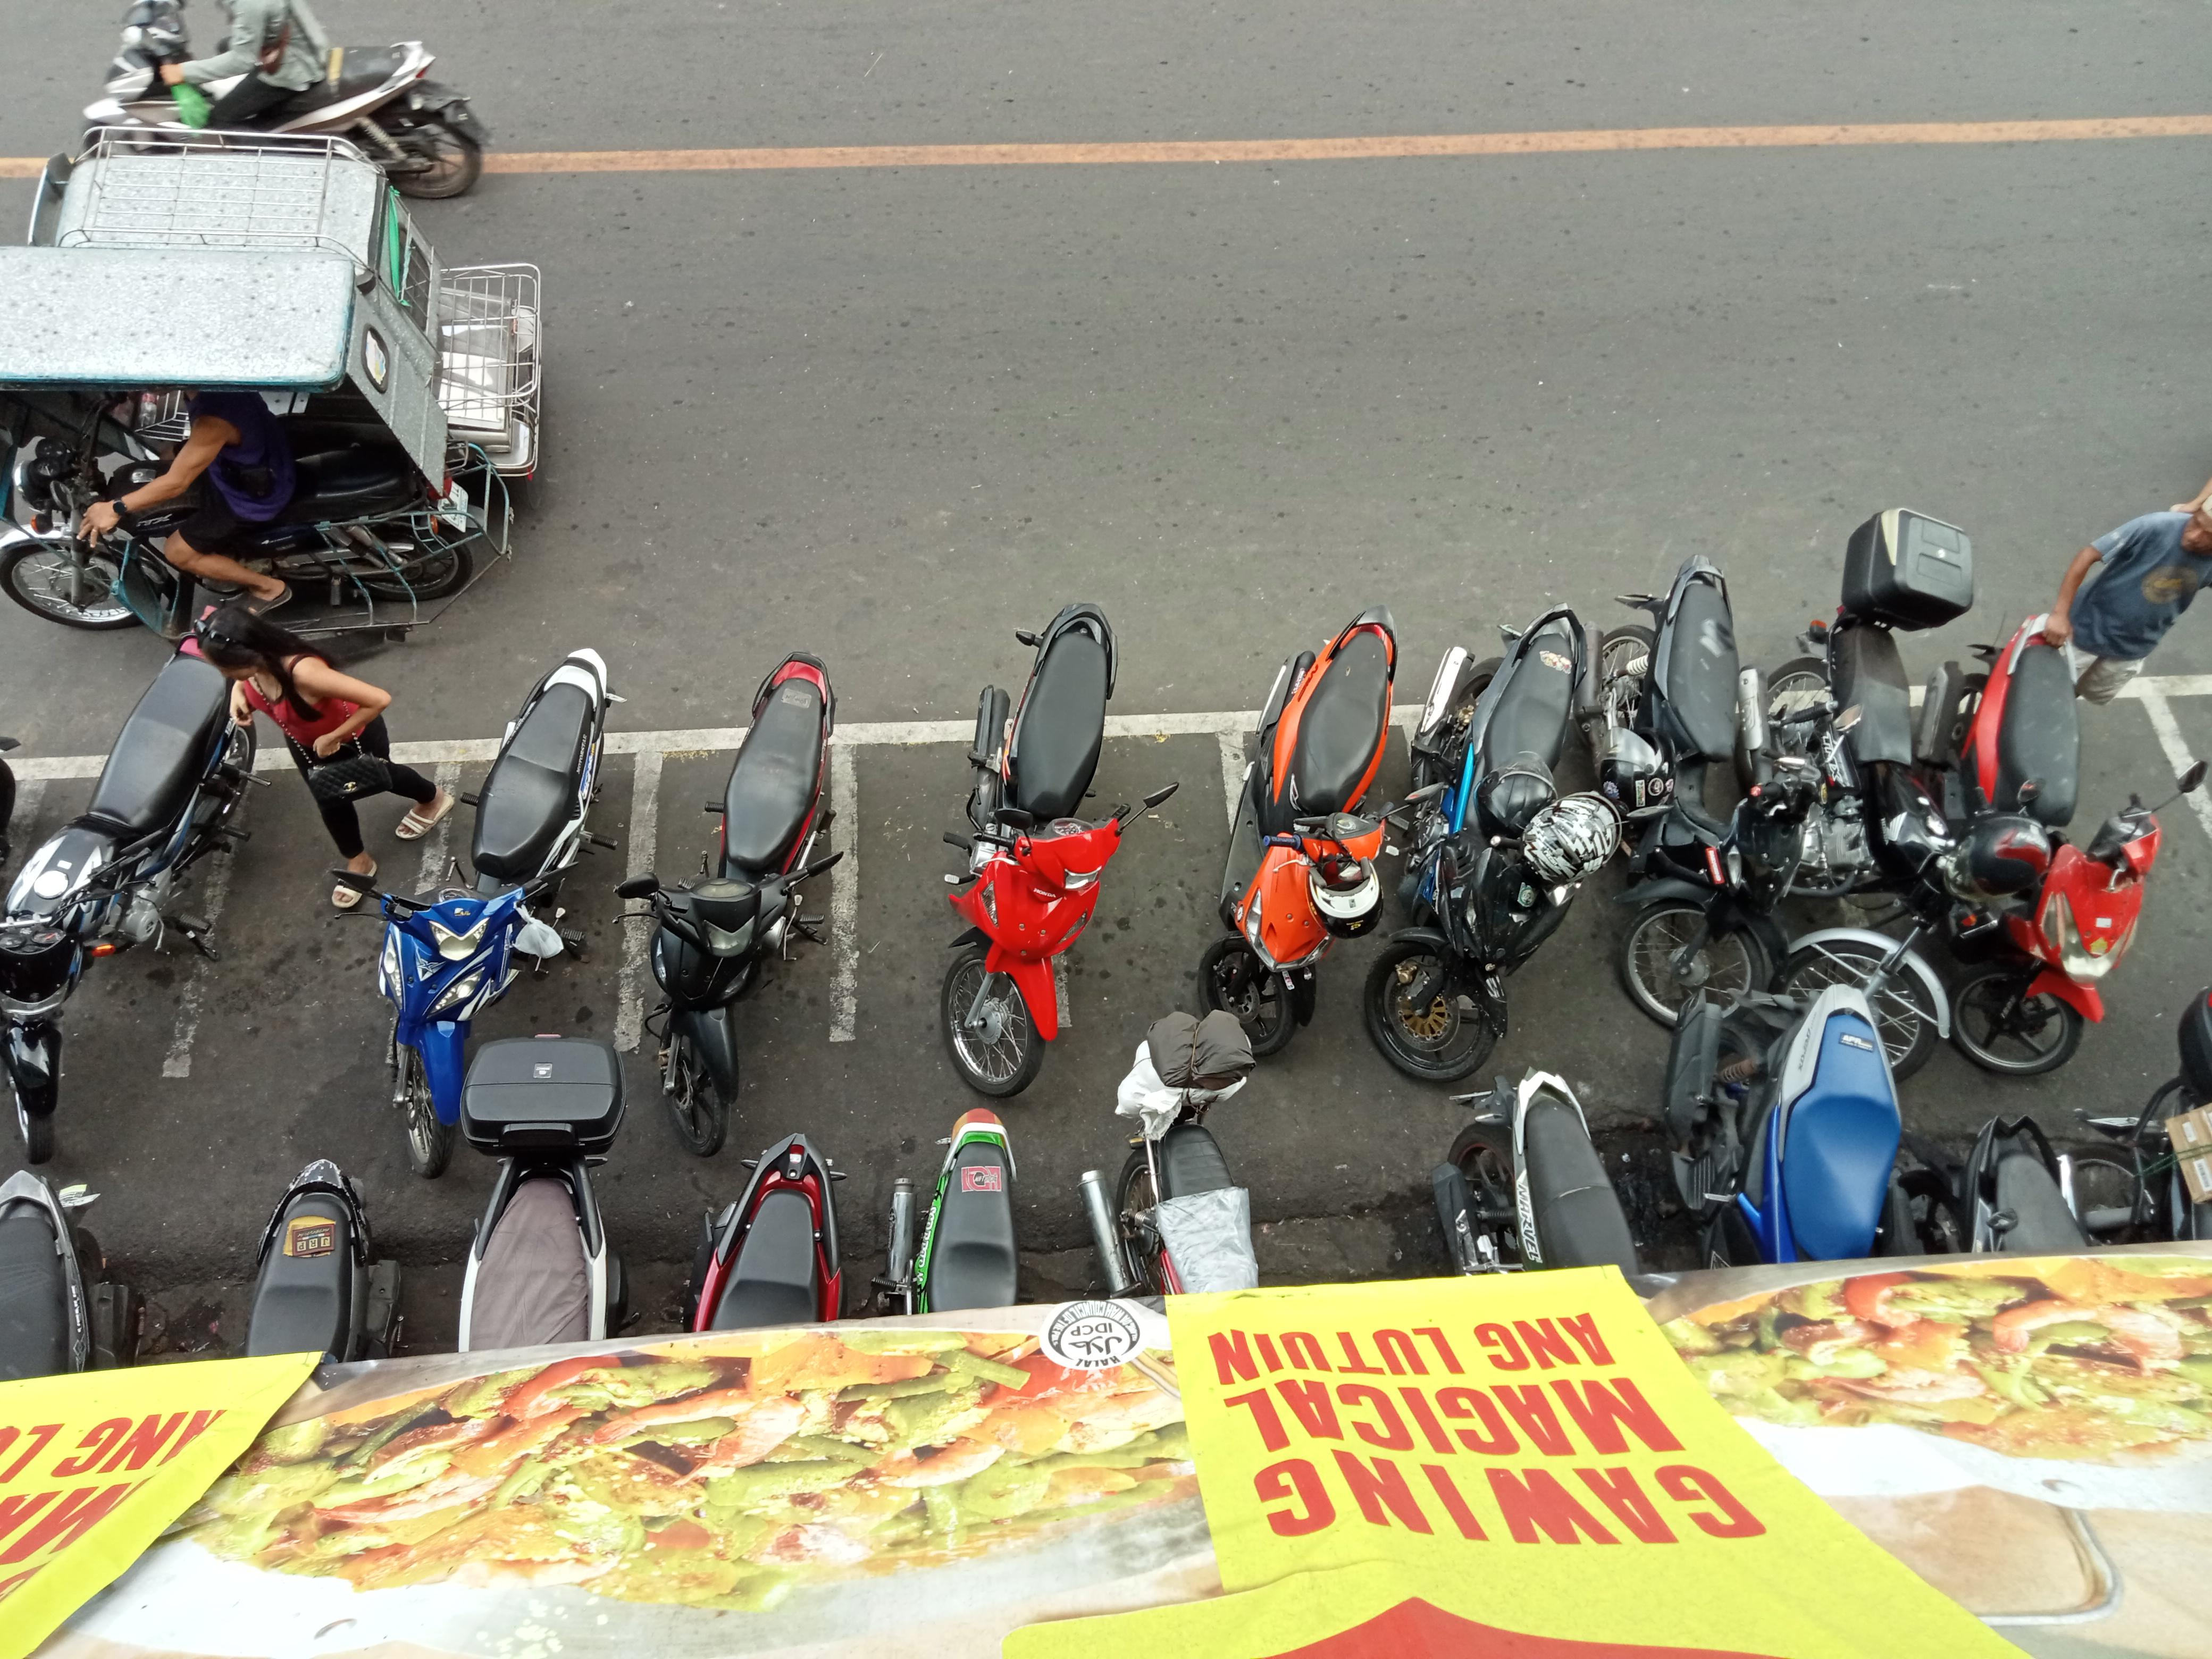occupied: (387, 728, 665, 1061), (617, 725, 857, 1051), (831, 716, 1071, 1042)
vacant: (160, 742, 465, 1080)
